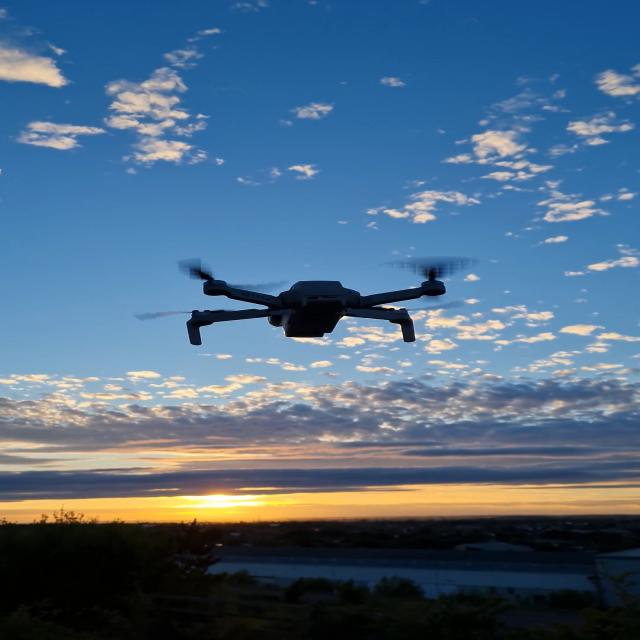Drone: (166, 240, 478, 358)
